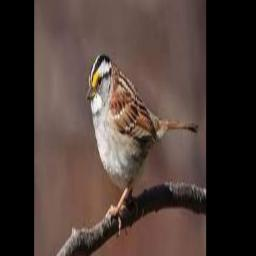Sparrow: (86, 53, 198, 236)
